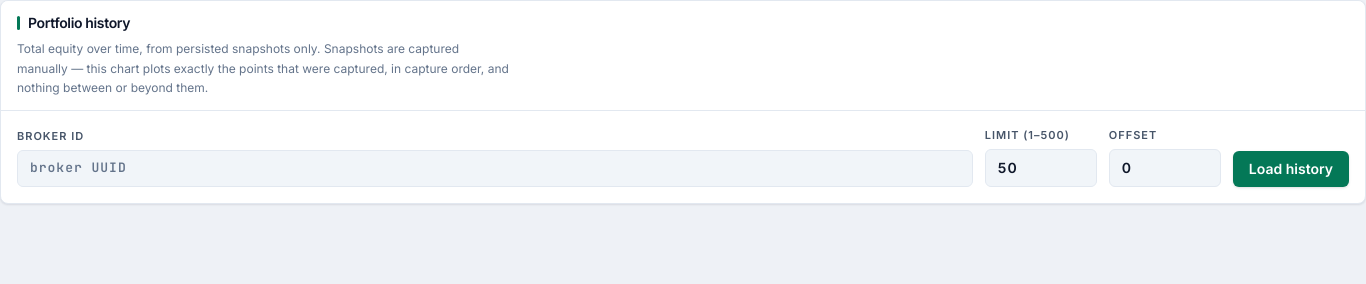
PortfolioHistoryChart › says nothing has been captured rather than drawing an empty curve
The image size is (1366, 284).
Type "b-1" into the field labelled "Broker ID" at (495, 169), box [17,150,973,187]
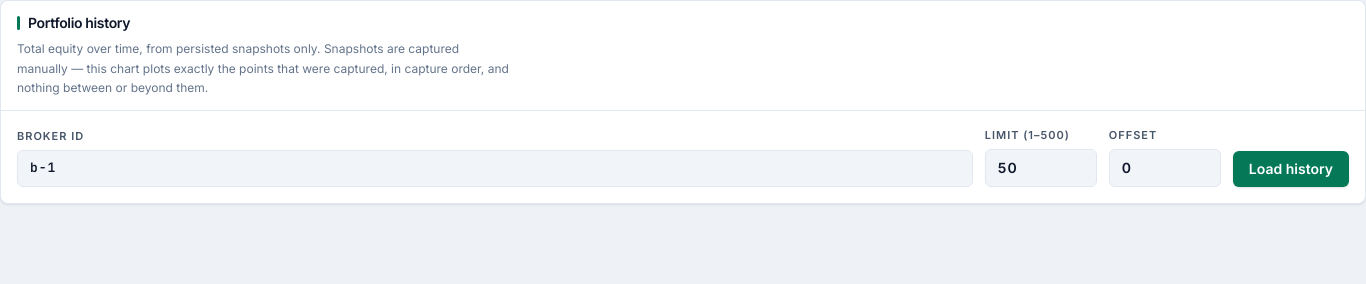
Click the button "Load history" at (1291, 169), box [1233,151,1349,187]
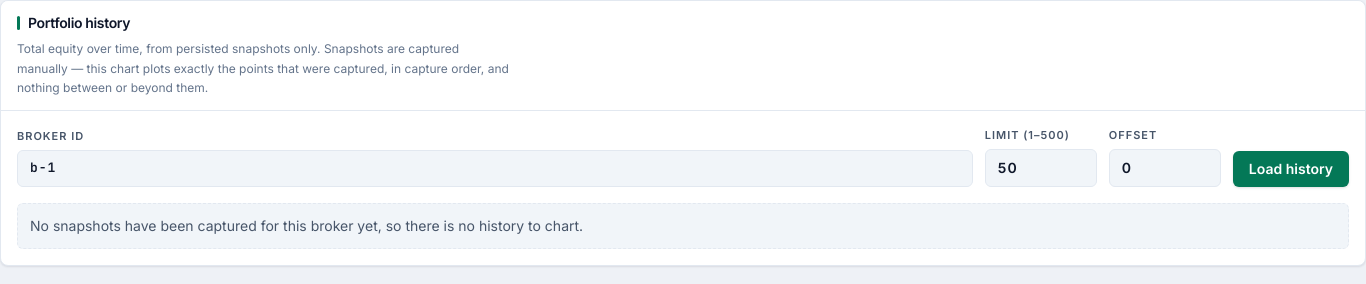
Expected: the text "No snapshots have been captured" is shown, [30,217,583,234]
